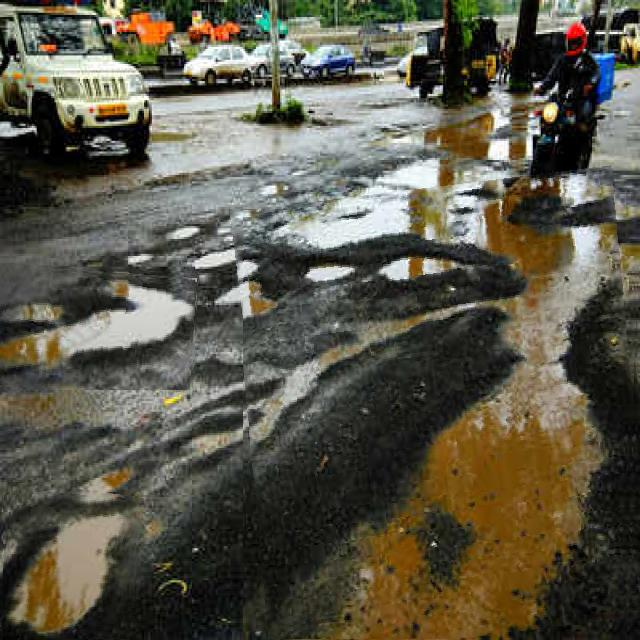Pothole: (243, 176, 640, 640), (0, 265, 197, 390), (3, 486, 140, 640)
